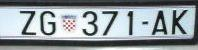-: (141, 21, 149, 24)
1: (127, 10, 134, 36)
3: (83, 10, 97, 36)
7: (101, 11, 118, 36)
A: (152, 10, 167, 36)
G: (40, 10, 56, 35)
K: (172, 10, 188, 35)
Z: (19, 10, 36, 35)
